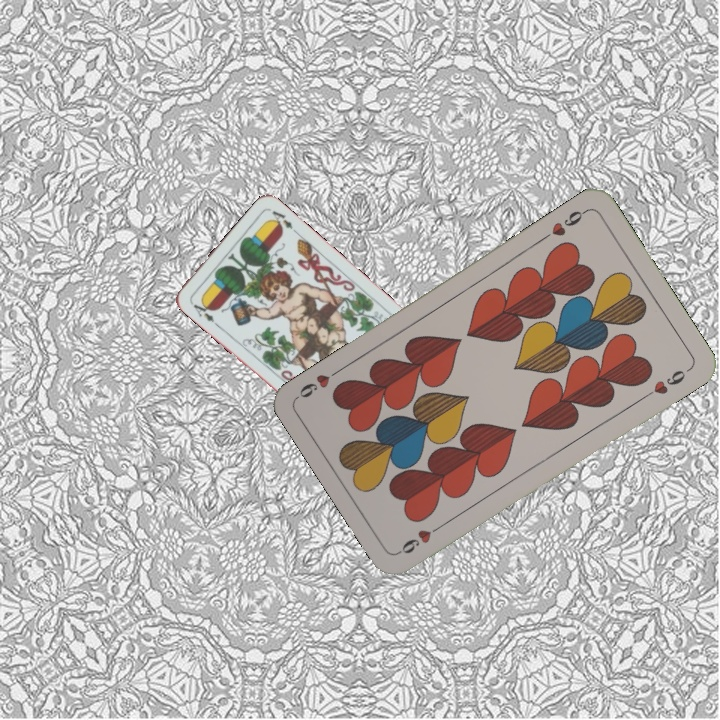EA: (186, 296, 217, 325)
H9: (394, 519, 448, 557), (538, 205, 590, 243)
